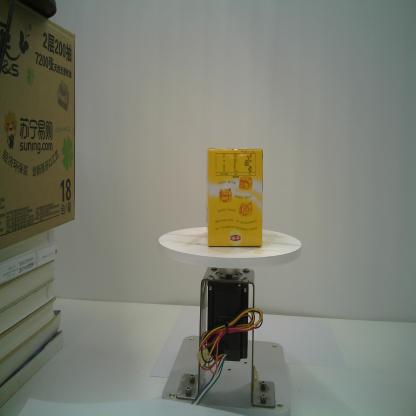Instant Drink: (204, 146, 264, 248)
